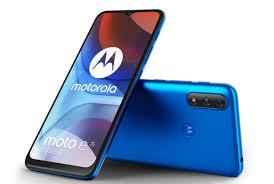Smartphone: (23, 5, 168, 175), (104, 78, 243, 171)
